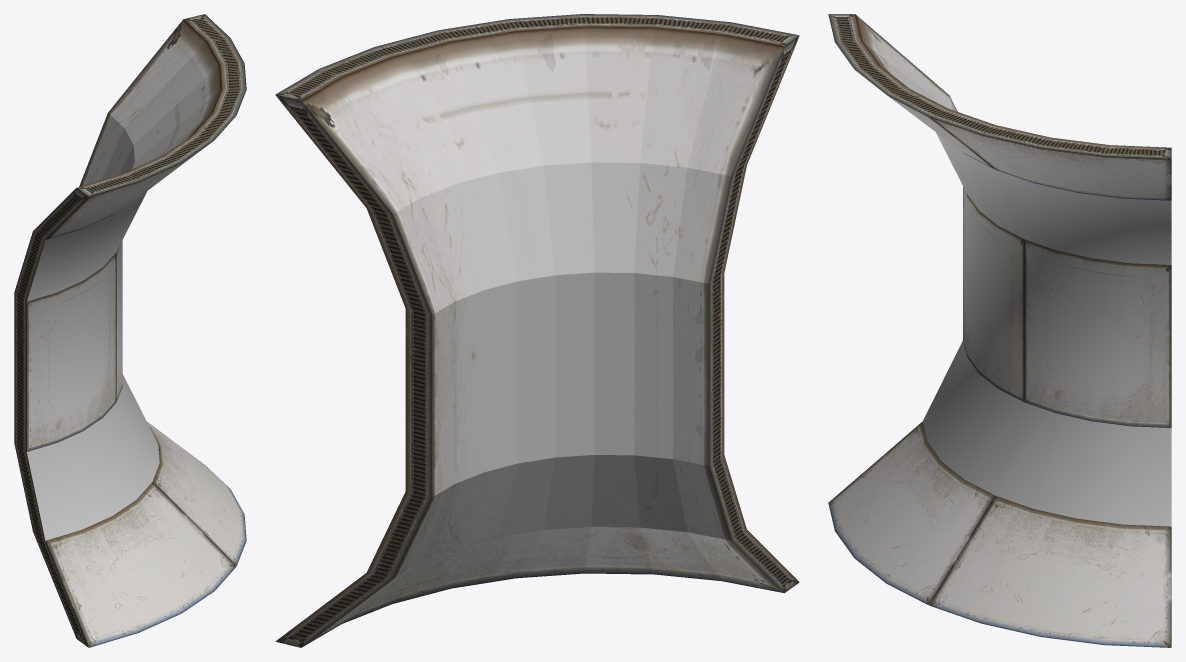
Rendered from scifi_wall_big_curve1_1.FBX.
3 renders of one model, left to right at view 1: azimuth 30°, elevation 25°; view 2: azimuth 150°, elevation 25°; view 3: azimuth 270°, elevation 25°, orthographic. The views are drawn at different scales.
Visible parts, largest first — view 1: Plane169; view 2: Plane169; view 3: Plane169.
Part boxes in pixels (left/top/right/bottom): Plane169: left=14, top=14, right=246, bottom=647; Plane169: left=275, top=14, right=799, bottom=647; Plane169: left=828, top=14, right=1171, bottom=647.
Bounding box in the file's own units: 323 × 508 × 323.
